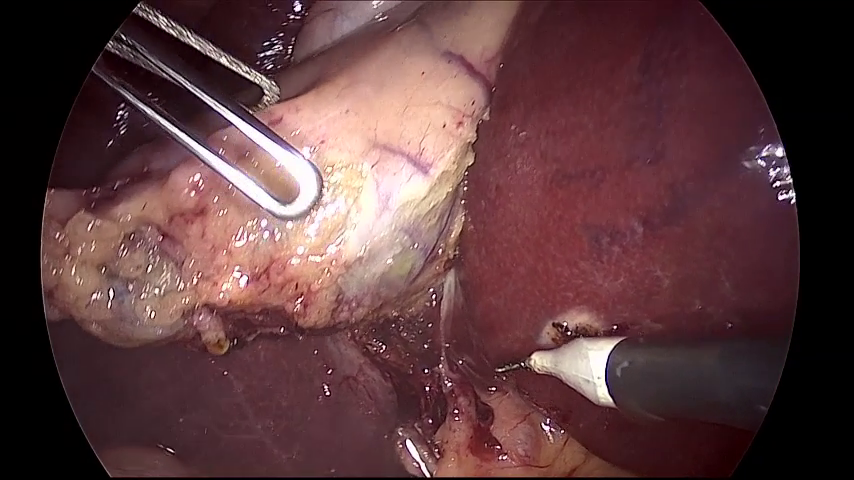grasper: (87, 1, 317, 214)
